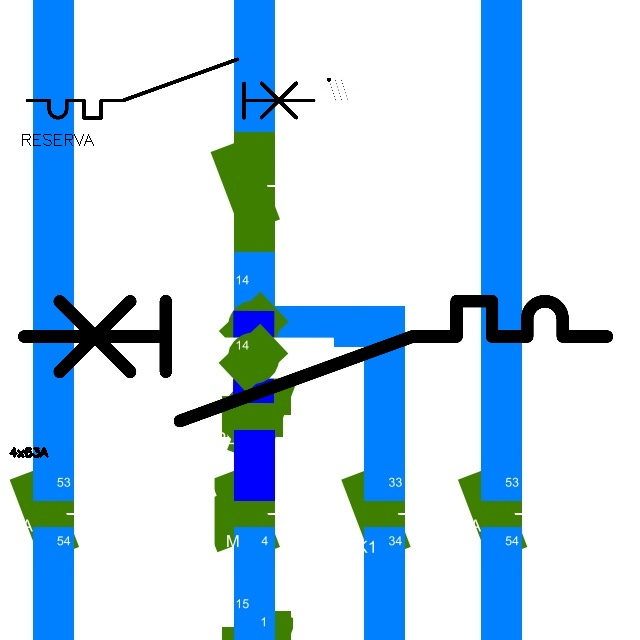interruptor_termomagnetico: (9, 286, 622, 436), (20, 52, 320, 125)
